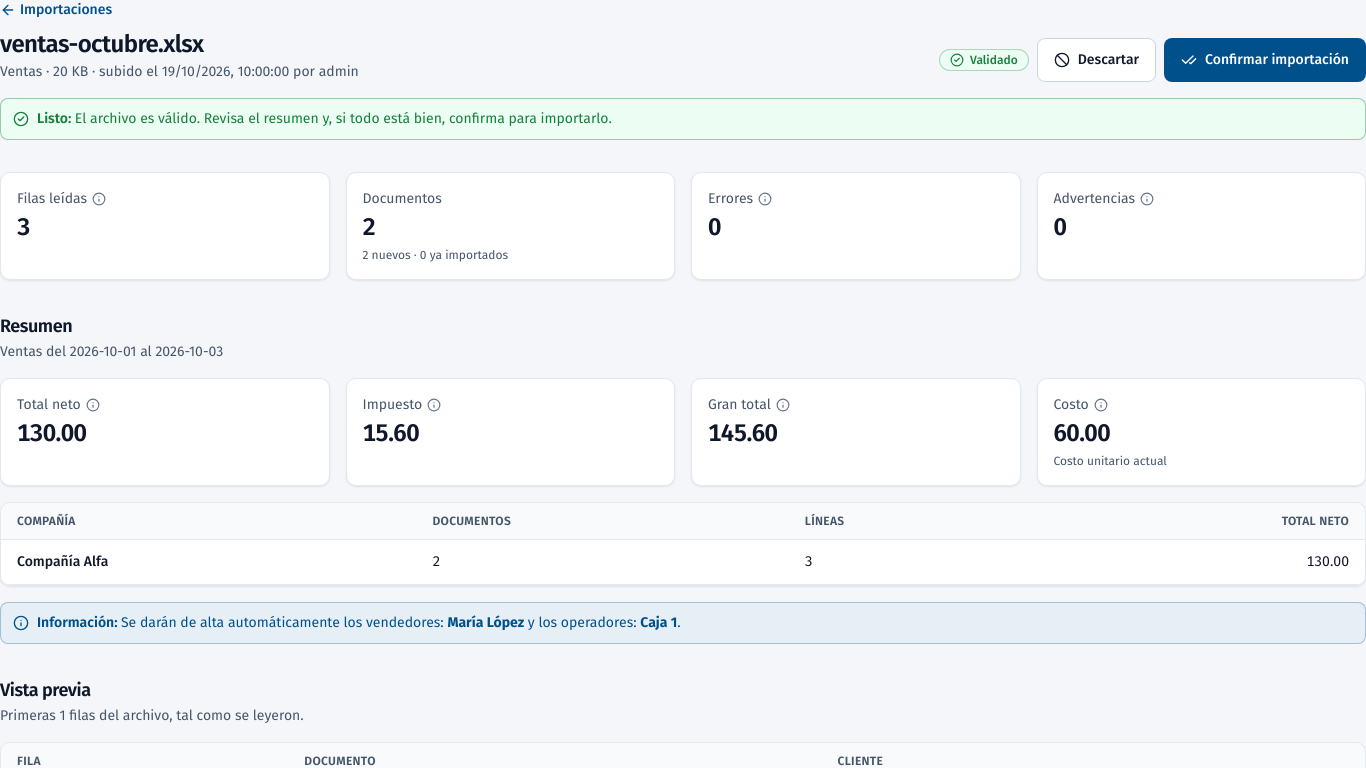
Test: importaciones › un lote validado muestra el resumen y se confirma con diálogo hasta quedar importado
Expected: the heading "Resumen" is shown, x1=0 y1=315 x2=72 y2=337
Expected: the text "130.00" is shown 2 times, x1=17 y1=419 x2=86 y2=447; x1=1030 y1=540 x2=1365 y2=584
Click the button "Confirmar importación". click: (1265, 60)
box: x1=1164 y1=38 x2=1365 y2=82
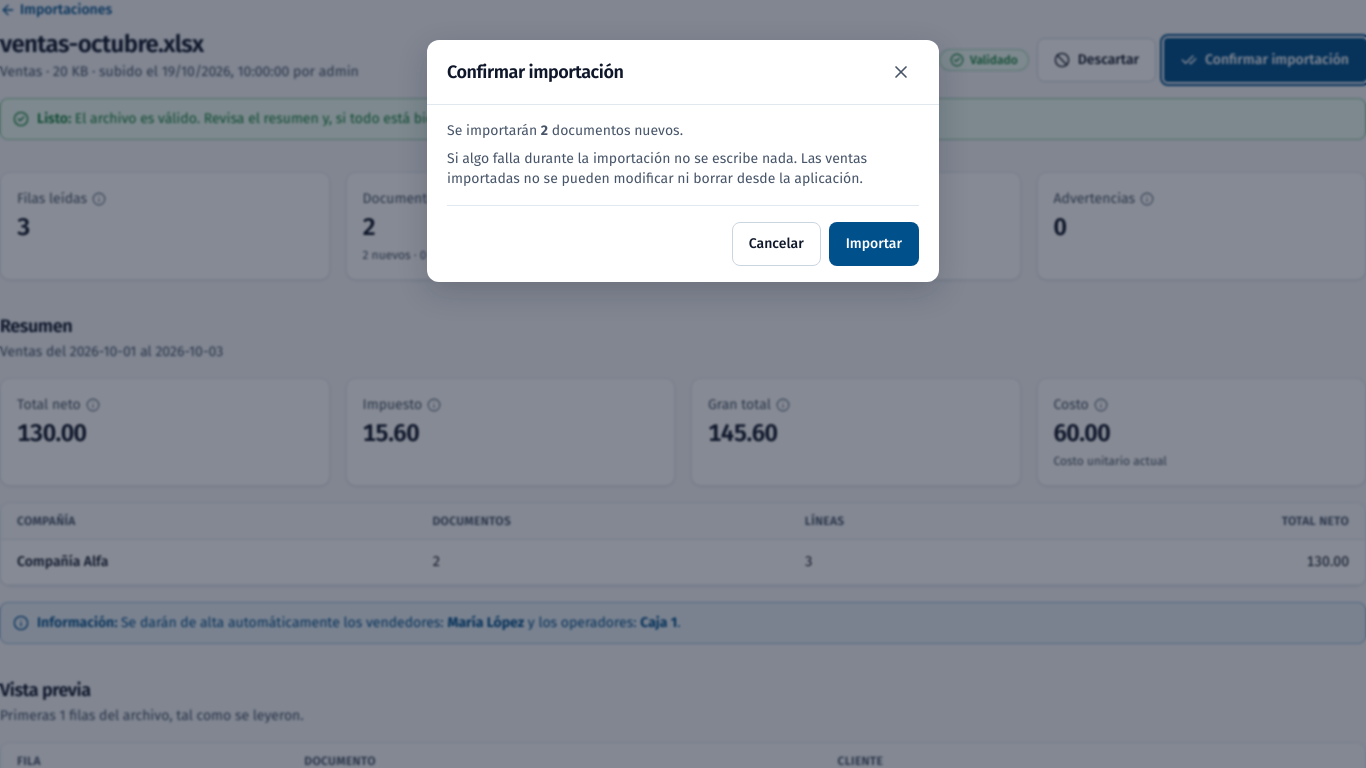
Now the dialog "Confirmar importación" shows "2 documentos nuevos", box x1=427 y1=40 x2=939 y2=282
Now the dialog "Confirmar importación" shows "no se escribe nada", box x1=447 y1=150 x2=797 y2=167
Click the button "Importar". click: (874, 244)
box: x1=829 y1=222 x2=919 y2=266
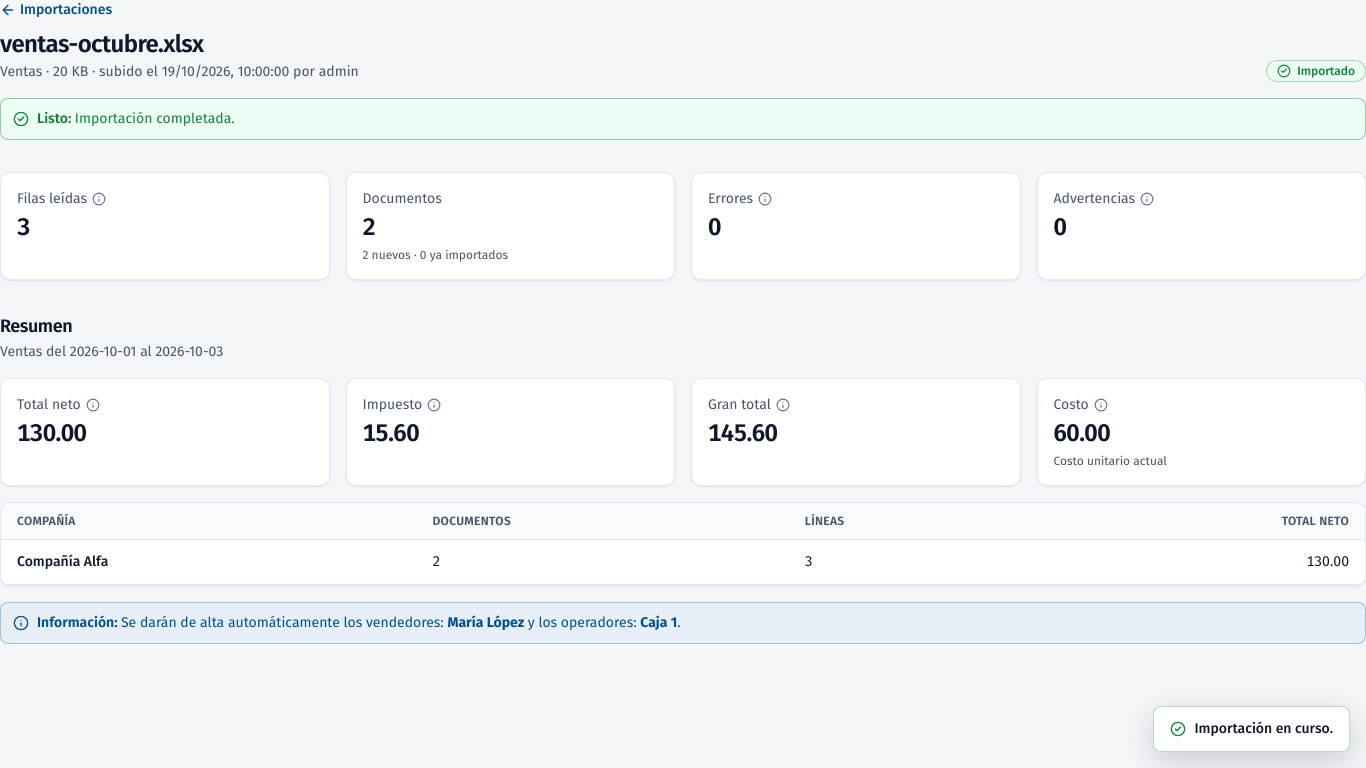
Now the text "Importación completada." is shown, box x1=75 y1=110 x2=235 y2=127
Now the button "Confirmar importación" is gone
